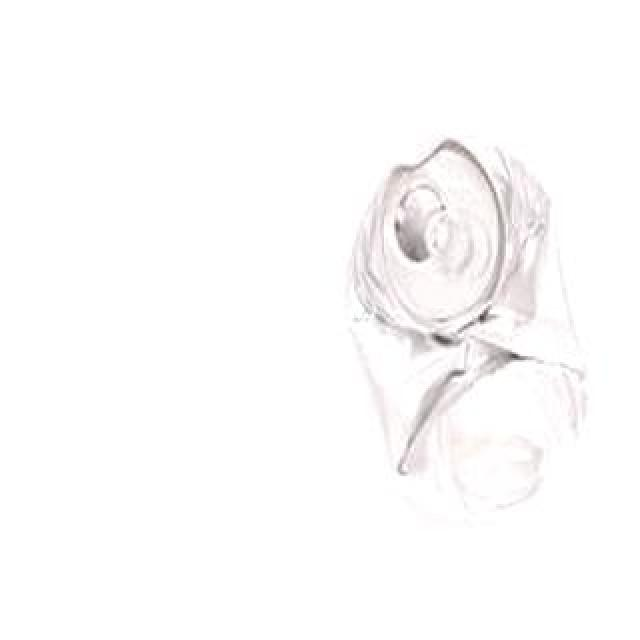Can: (324, 121, 602, 529)
